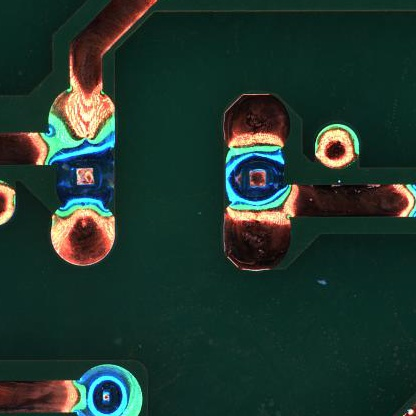spot: (223, 144, 290, 209), (51, 144, 114, 210), (78, 363, 143, 416)
